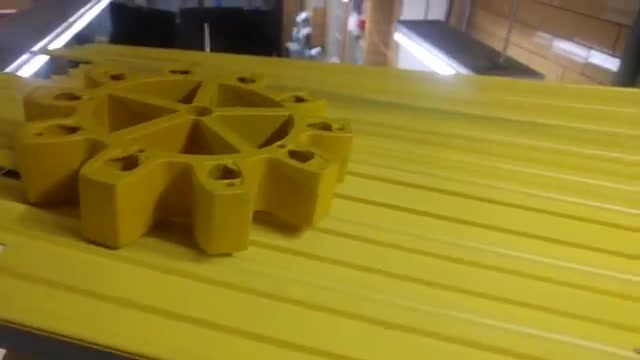gear: (23, 58, 352, 260)
